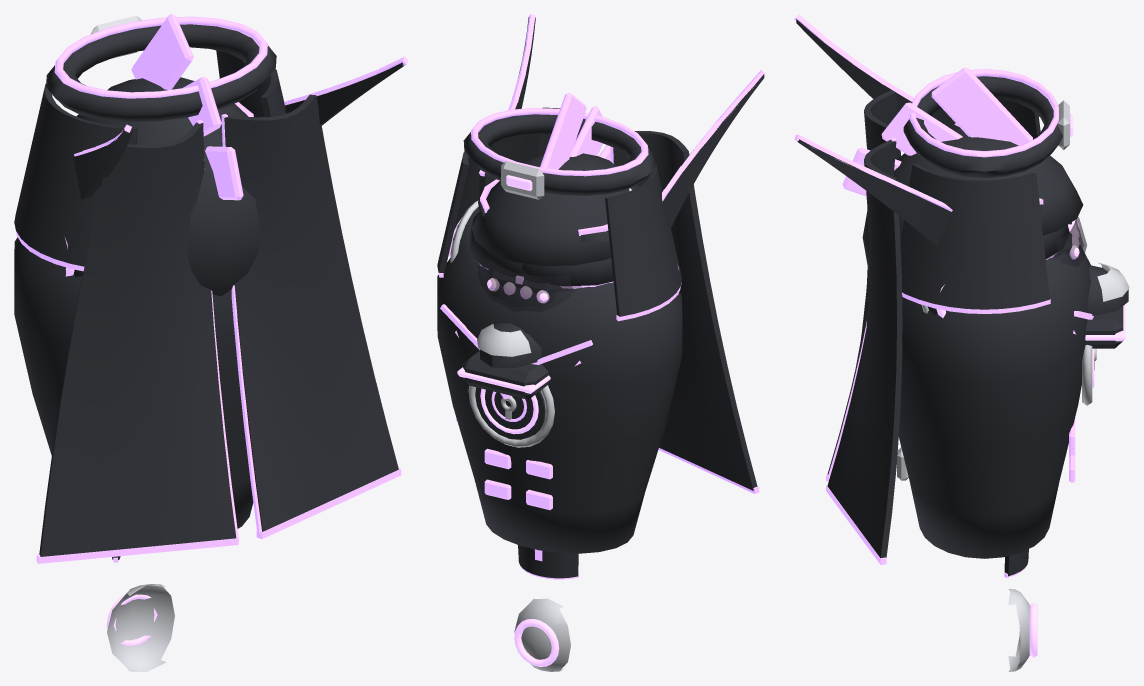
The model's file is mc_suit.glb.
The picture shows the model from 3 angles, left to right: view 1: azimuth 30°, elevation 25°; view 2: azimuth 150°, elevation 25°; view 3: azimuth 270°, elevation 25°; orthographic projection. The views are drawn at different scales.
Parts seen in each view (by area): view 1: FAULD, HELMET, MANTLE, CUISSE_L, CUISSE_R; view 2: MANTLE, FAULD, HELMET, BOOT_L, CUISSE_L, PLATTER, BOOT_R, CUISSE_R, PAULDRON_L, GAUNTLET_L, PAULDRON_R; view 3: FAULD, MANTLE, HELMET, BOOT_L, CUISSE_L, BOOT_R, CUISSE_R, PAULDRON_R.
Boxes of the visible parts, <box> form: FAULD: <box>14,15,401,563</box>; HELMET: <box>65,14,408,295</box>; MANTLE: <box>14,102,253,528</box>; CUISSE_L: <box>106,556,174,671</box>; CUISSE_R: <box>107,556,169,671</box>; MANTLE: <box>437,179,682,553</box>; FAULD: <box>437,107,759,493</box>; HELMET: <box>449,14,765,311</box>; BOOT_L: <box>457,323,550,399</box>; CUISSE_L: <box>514,545,578,671</box>; PLATTER: <box>475,387,545,439</box>; BOOT_R: <box>457,323,550,399</box>; CUISSE_R: <box>514,545,578,671</box>; PAULDRON_L: <box>521,258,613,288</box>; GAUNTLET_L: <box>487,269,561,303</box>; PAULDRON_R: <box>468,212,522,277</box>; FAULD: <box>826,69,1073,564</box>; MANTLE: <box>897,198,1093,558</box>; HELMET: <box>794,14,1086,317</box>; BOOT_L: <box>1085,263,1129,348</box>; CUISSE_L: <box>1004,549,1037,671</box>; BOOT_R: <box>1086,262,1128,348</box>; CUISSE_R: <box>1004,551,1037,671</box>; PAULDRON_R: <box>1043,225,1069,259</box>.
Bounding box in the file's own units: 0.3492 × 0.621 × 0.3143.
